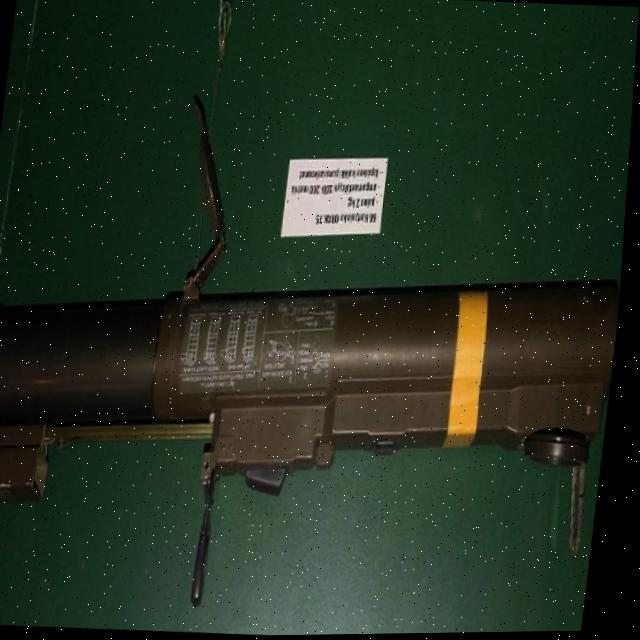rocket: (0, 260, 626, 634)
